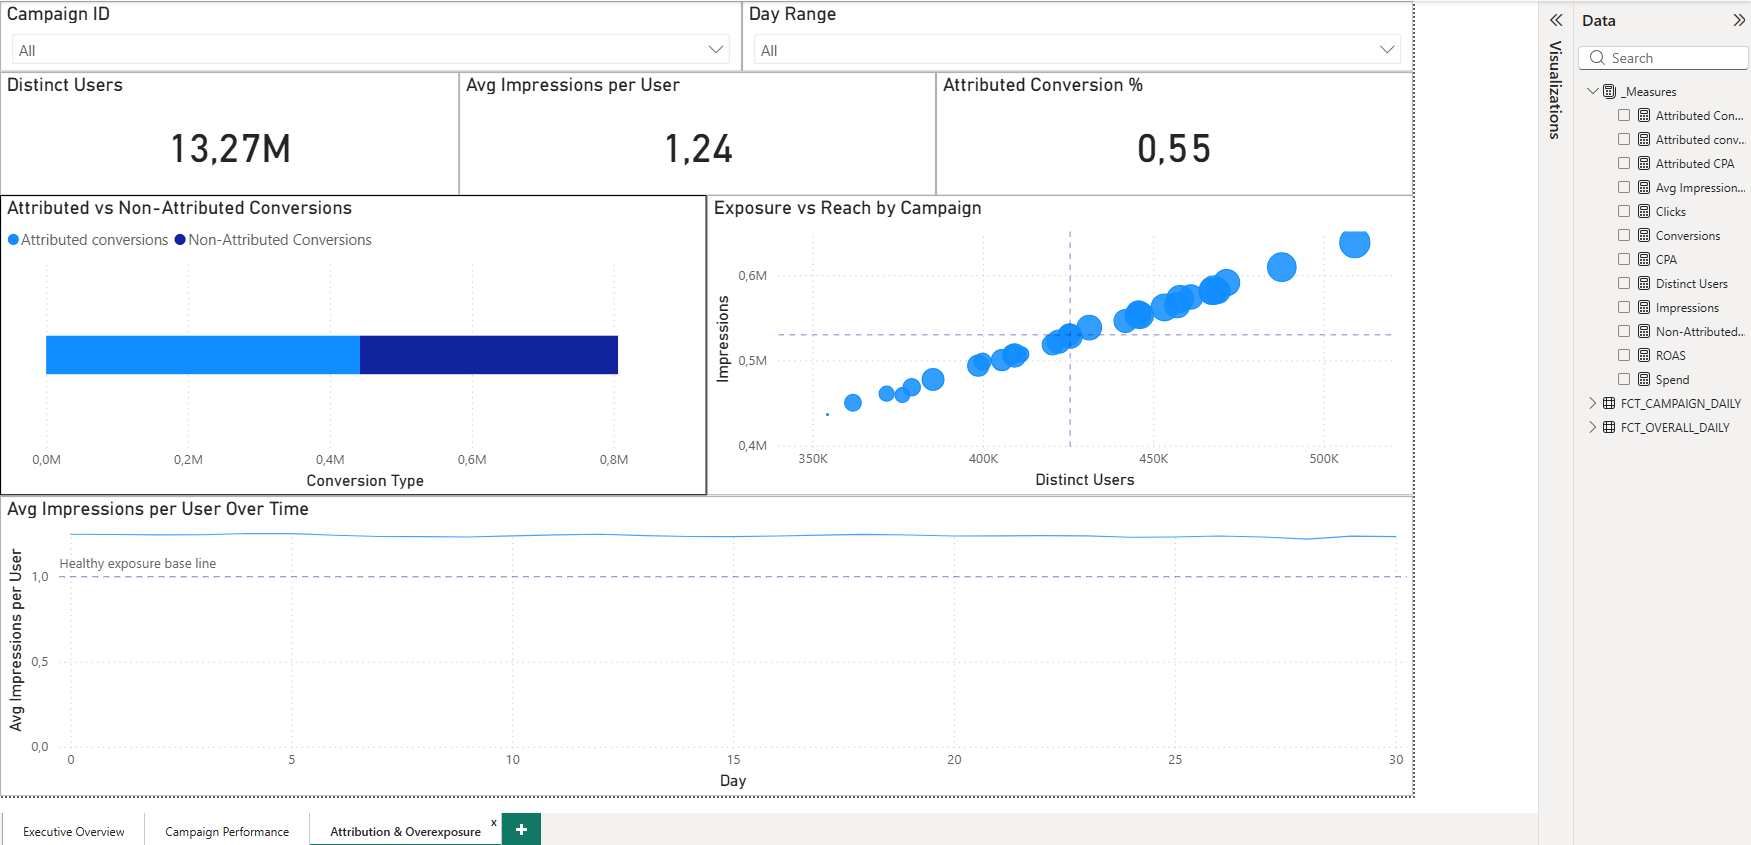

What the dashboard file says about the page in this screenshot:
{"tool":"powerbi","page":{"name":"Attribution & Overexposure","canvas":[1280,720],"ordinal":2},"visuals":[{"type":"card","title":"Distinct Users","fields":{"Values":["_Measures.Distinct Users"]},"box":[0,64,416,112],"z":0},{"type":"card","title":"Avg Impressions per User","fields":{"Values":["_Measures.Avg Impressions per User"]},"box":[416,64,432,112],"z":1000},{"type":"card","title":"Attributed Conversion %","fields":{"Values":["_Measures.Attributed Conversion %"]},"box":[848,64,432,112],"z":2000},{"type":"barChart","title":"Attributed vs Non-Attributed Conversions","fields":{"Y":["_Measures.Attributed conversions","_Measures.Non-Attributed Conversions"]},"box":[0,176,640,272],"z":3000},{"type":"scatterChart","title":"Exposure vs Reach by Campaign","fields":{"Category":["FCT_OVERALL_DAILY.EVENT_DAY_BUCKET"],"X":["_Measures.Distinct Users"],"Y":["_Measures.Impressions"],"Size":["_Measures.Conversions"]},"box":[640,176,640,272],"z":4000},{"type":"lineChart","title":"Avg Impressions per User Over Time","fields":{"Category":["FCT_OVERALL_DAILY.EVENT_DAY_BUCKET"],"Y":["_Measures.Avg Impressions per User"]},"box":[0,448,1280,272],"z":5000},{"type":"slicer","title":"Day Range","fields":{"Values":["FCT_OVERALL_DAILY.EVENT_DAY_BUCKET"]},"box":[672,0,608,64],"z":6000},{"type":"slicer","title":"Campaign ID","fields":{"Values":["FCT_CAMPAIGN_DAILY.CAMPAIGN_ID"]},"box":[0,0,672,64],"z":7000}]}

Visuals, with their boxes on the page's 1280x720 design canvas (x1, y1, x2, y2). These are canvas units, not pixel positions in the 1751x845 screenshot, which may show the page scaled, cropped or inside an application window:
"Distinct Users" card: locate(0, 64, 416, 176)
"Avg Impressions per User" card: locate(416, 64, 848, 176)
"Attributed Conversion %" card: locate(848, 64, 1280, 176)
"Attributed vs Non-Attributed Conversions" barChart: locate(0, 176, 640, 448)
"Exposure vs Reach by Campaign" scatterChart: locate(640, 176, 1280, 448)
"Avg Impressions per User Over Time" lineChart: locate(0, 448, 1280, 720)
"Day Range" slicer: locate(672, 0, 1280, 64)
"Campaign ID" slicer: locate(0, 0, 672, 64)
